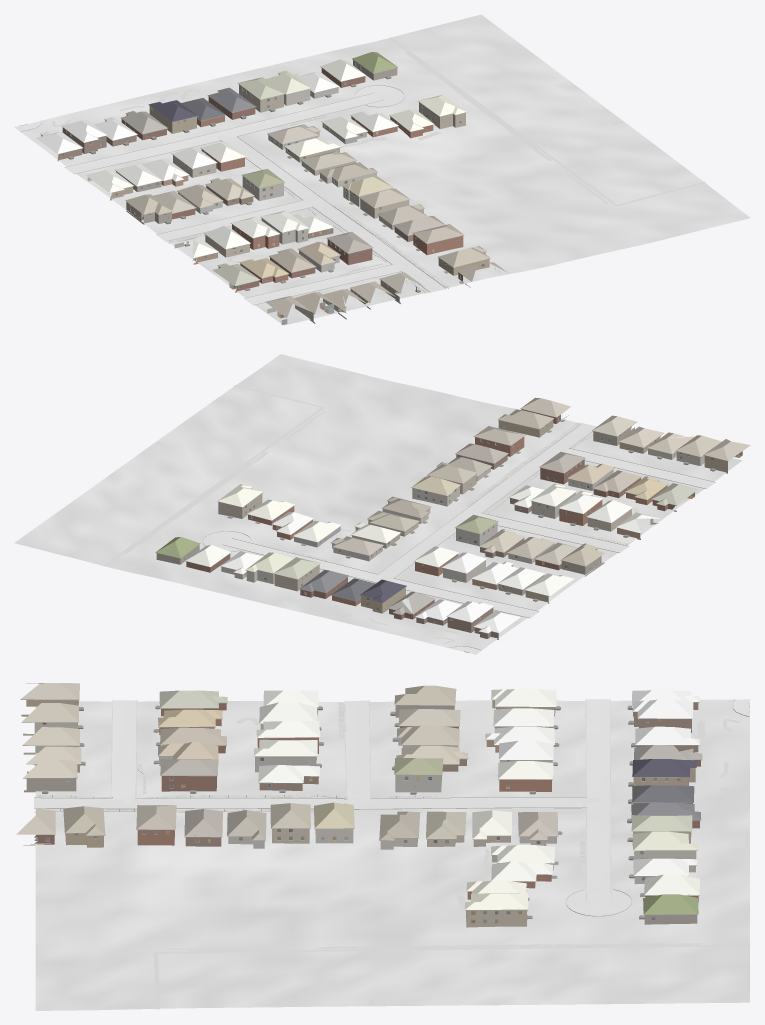
3 views of the same model, one above another, from view 1: azimuth 30°, elevation 25°; view 2: azimuth 150°, elevation 25°; view 3: azimuth 270°, elevation 25° (orthographic). The views are drawn at different scales.
Parts seen in each view (by area): view 1: ground, roof, concrete, wall, walk, detail, wall_stucco, curb, wall_stone; view 2: ground, roof, wall, concrete, wall_stucco, walk, detail, curb, wall_stone; view 3: ground, roof, concrete, wall, walk, detail, wall_stucco, curb, wall_stone, glass.
Boxes of the visible parts, x1,y1,x2,y2 form: ground: (14,14,750,325); roof: (36,52,507,318); concrete: (14,85,445,304); wall: (41,60,489,309); walk: (52,37,705,292); detail: (40,59,500,314); wall_stucco: (173,74,409,323); curb: (19,85,448,305); wall_stone: (178,87,423,272); ground: (14,354,742,654); roof: (155,397,750,633); wall: (156,409,727,639); concrete: (203,423,715,654); wall_stucco: (246,448,704,584); walk: (103,385,639,643); detail: (155,408,728,633); curb: (202,423,715,652); wall_stone: (221,467,613,579); ground: (35,699,749,1010); roof: (16,683,702,914); concrete: (34,699,750,915); wall: (21,700,700,927); walk: (34,702,750,1009); detail: (20,690,701,923); wall_stucco: (23,722,696,870); curb: (34,699,749,916); wall_stone: (159,738,695,884); glass: (35,709,684,920).
Bounding box in the file's own units: 253 × 13.62 × 258.
